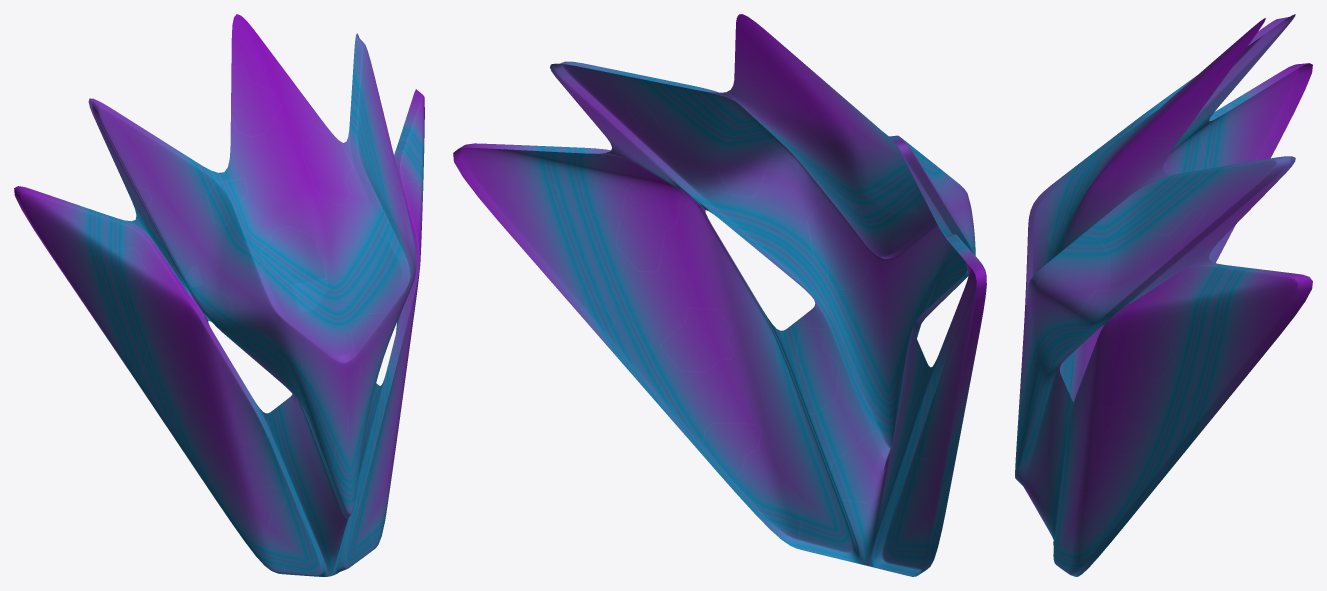
File: maskanew.glb
3 views of the same model, side by side, from view 1: azimuth 30°, elevation 25°; view 2: azimuth 150°, elevation 25°; view 3: azimuth 270°, elevation 25° (orthographic). The views are drawn at different scales.
Visible parts, largest first — view 1: DronPro_Mask_Smooth; view 2: DronPro_Mask_Smooth; view 3: DronPro_Mask_Smooth.
Boxes of the visible parts, left/top/right/bottom form: DronPro_Mask_Smooth: left=14, top=14, right=424, bottom=576; DronPro_Mask_Smooth: left=453, top=14, right=986, bottom=576; DronPro_Mask_Smooth: left=1015, top=14, right=1312, bottom=576.
Size of the model in its own units: 1.76 by 2.06 by 1.02.
1 material, 1 textured.
